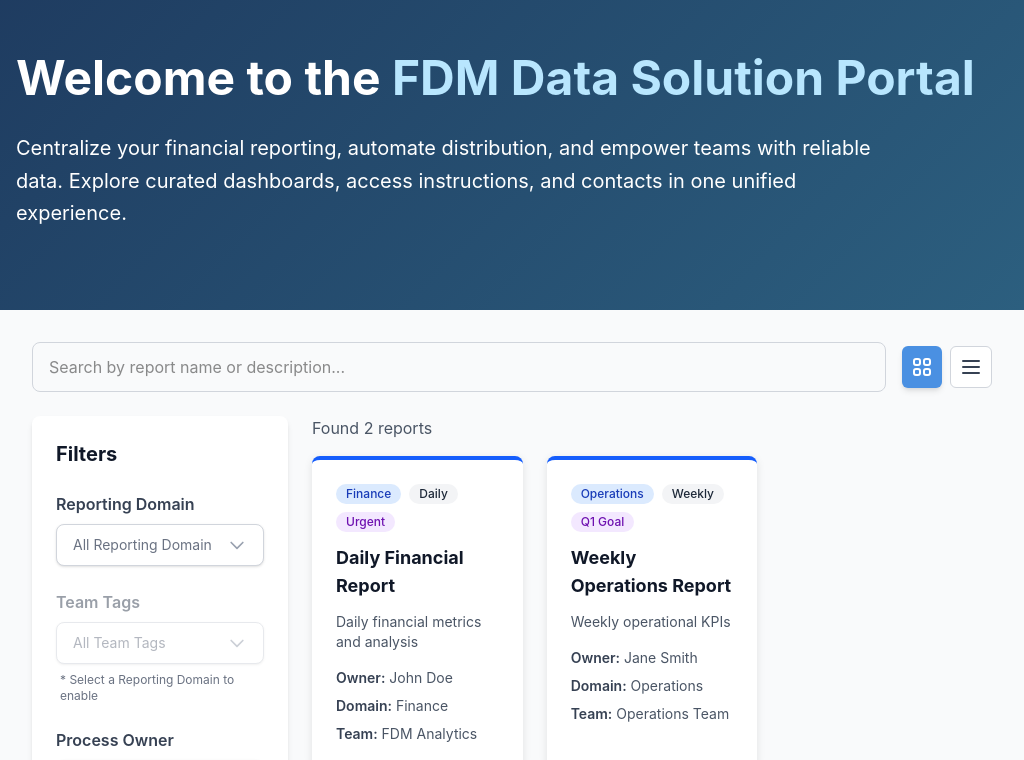
Home Page › should show no results message when filters return empty
In the field with placeholder "Search by report name or description...": (459, 366) [32, 342, 886, 392], type "NonExistentReport"
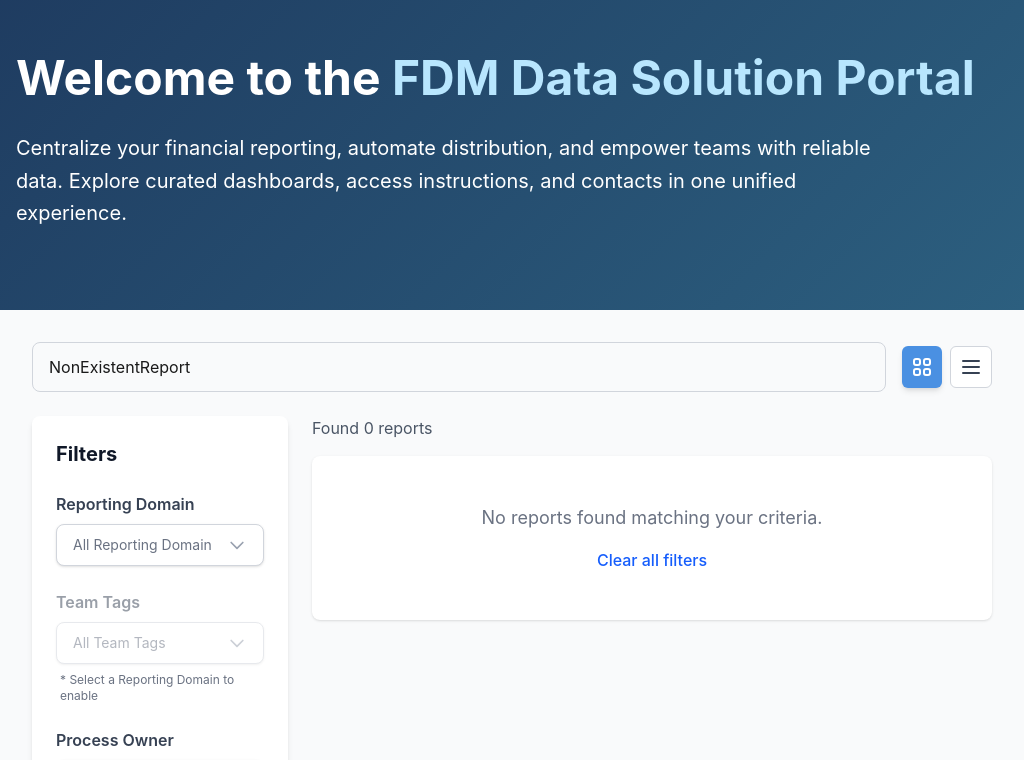
Now the text "No reports found matching your criteria." is shown, box [482, 506, 822, 528]
